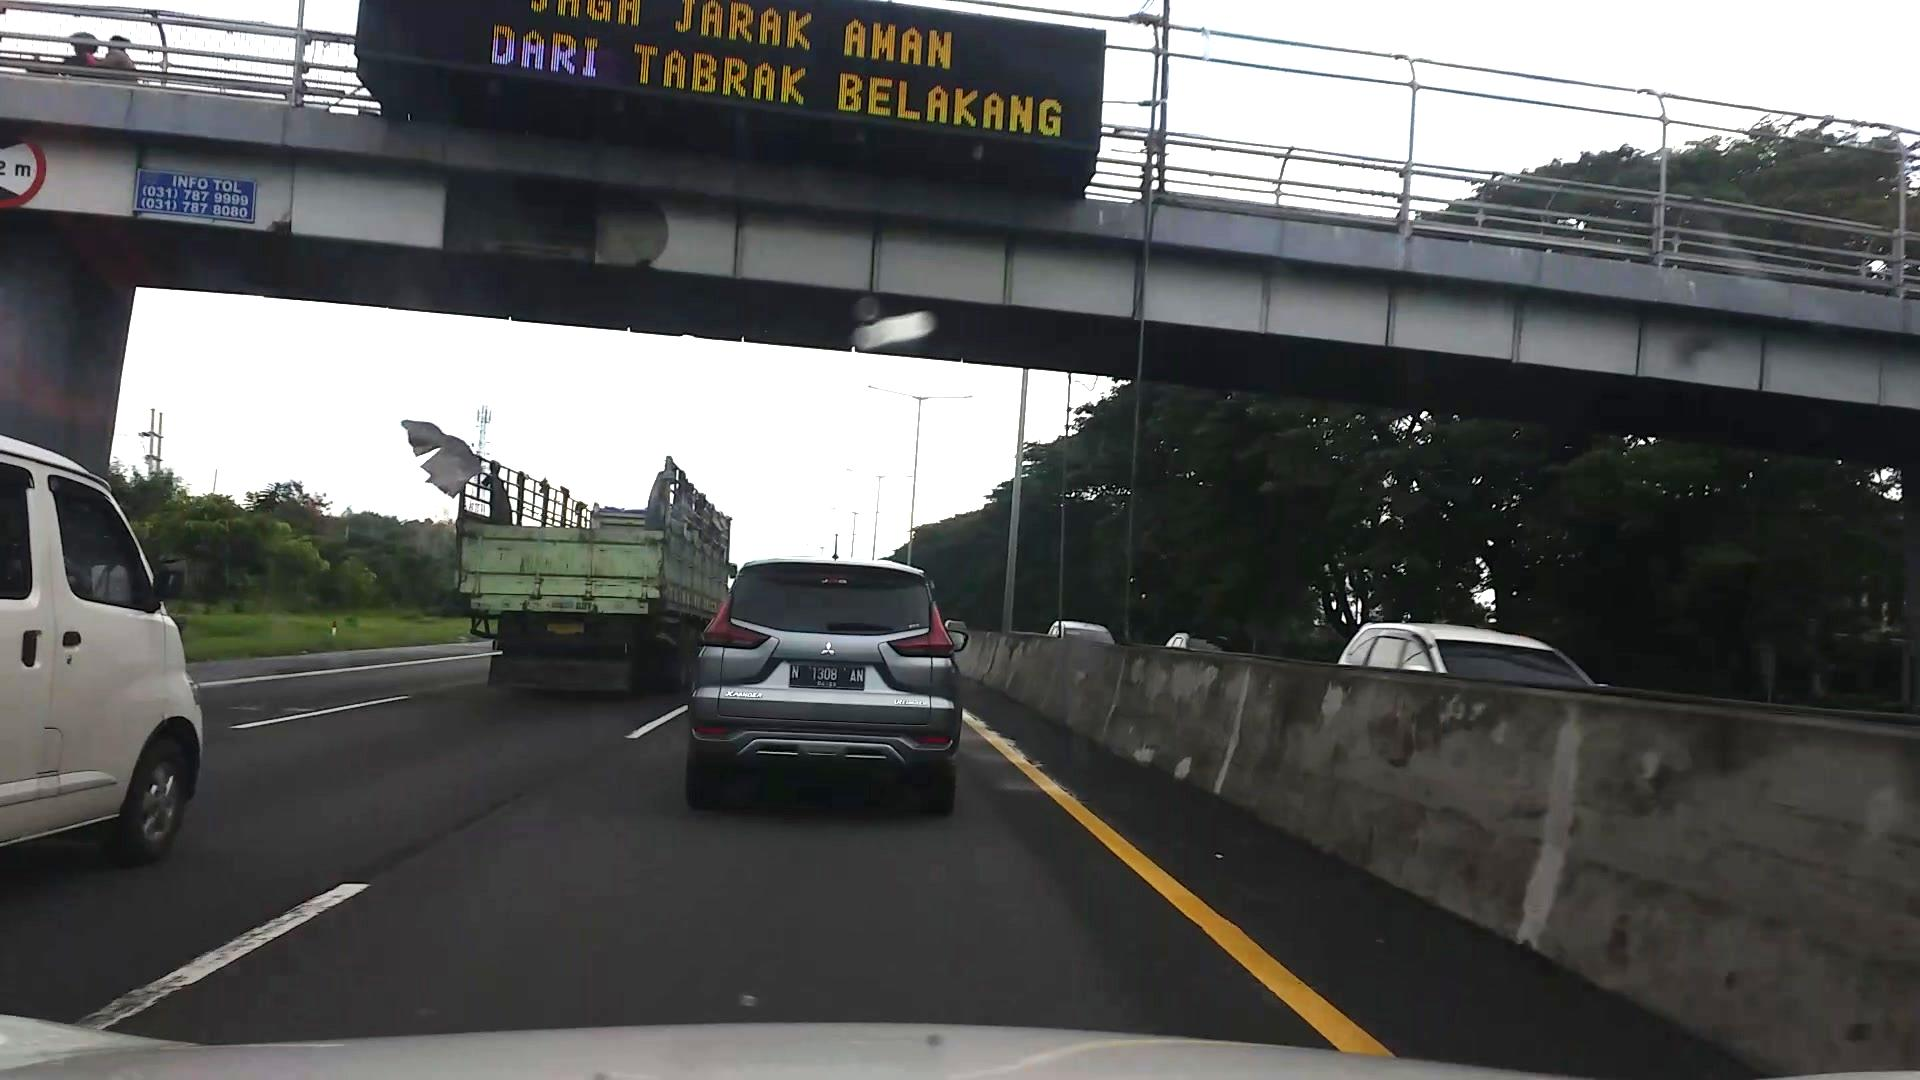plate_positive: (789, 663, 865, 690)
